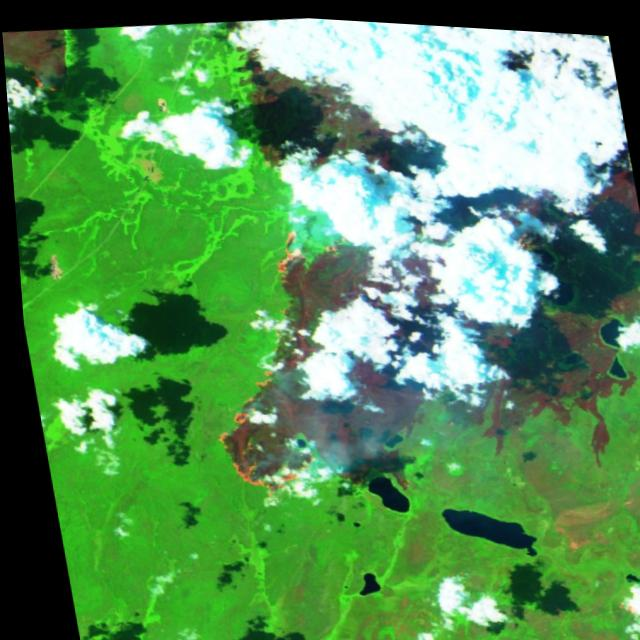fire: (168, 202, 464, 520)
